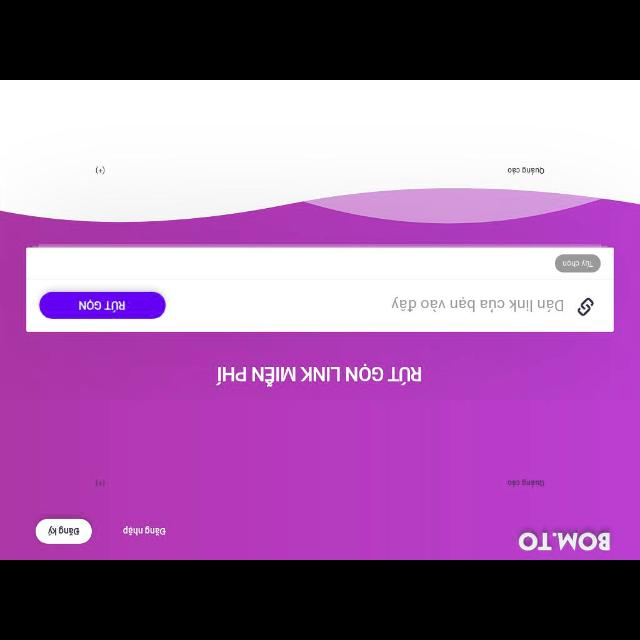icon: (578, 298, 594, 316), (96, 167, 104, 175), (96, 478, 104, 486)
text: (216, 364, 422, 386), (393, 296, 563, 312), (518, 532, 610, 552), (80, 300, 124, 312), (123, 526, 165, 536), (508, 167, 544, 175), (563, 259, 593, 267), (508, 479, 542, 486)
textbutton: (39, 292, 164, 318), (35, 518, 91, 544), (556, 254, 600, 272)
